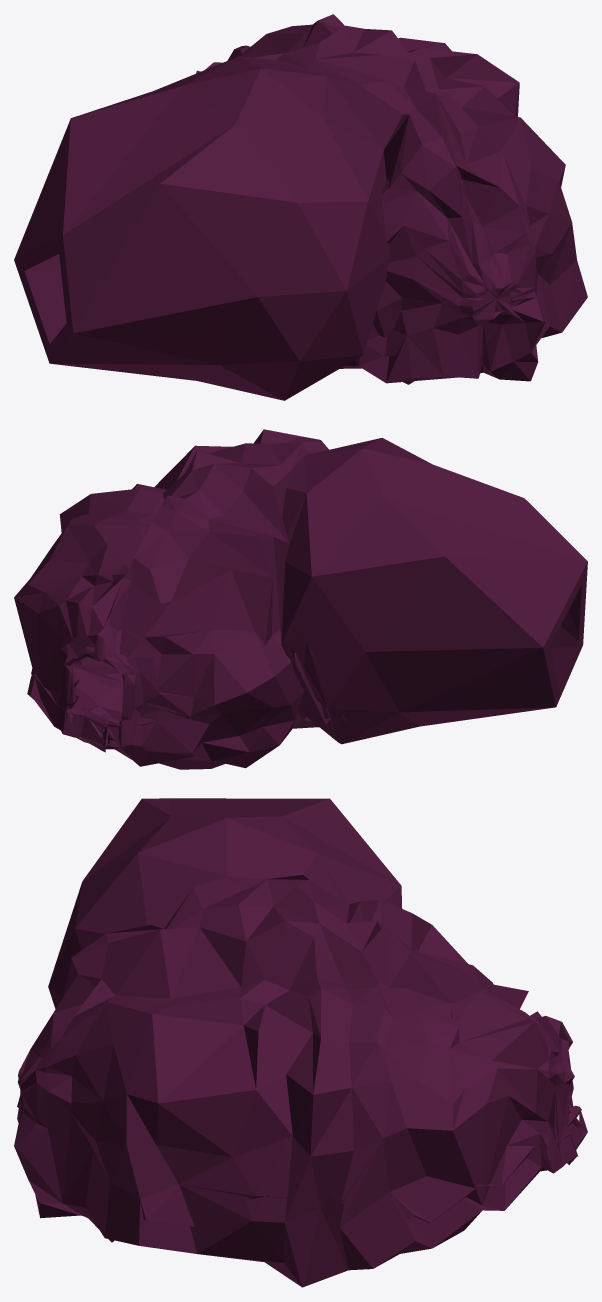
The model's file is limits4.fbx.
3 renders of one model, top to bottom at view 1: azimuth 30°, elevation 25°; view 2: azimuth 150°, elevation 25°; view 3: azimuth 270°, elevation 25°, orthographic. The views are drawn at different scales.
Visible parts, largest first — view 1: limits; view 2: limits; view 3: limits.
Part boxes in pixels (<box>): limits: <box>14,14,587,400</box>; limits: <box>14,429,587,769</box>; limits: <box>14,798,587,1287</box>.
Size of the model in its own units: 7245 by 4310 by 6481.
